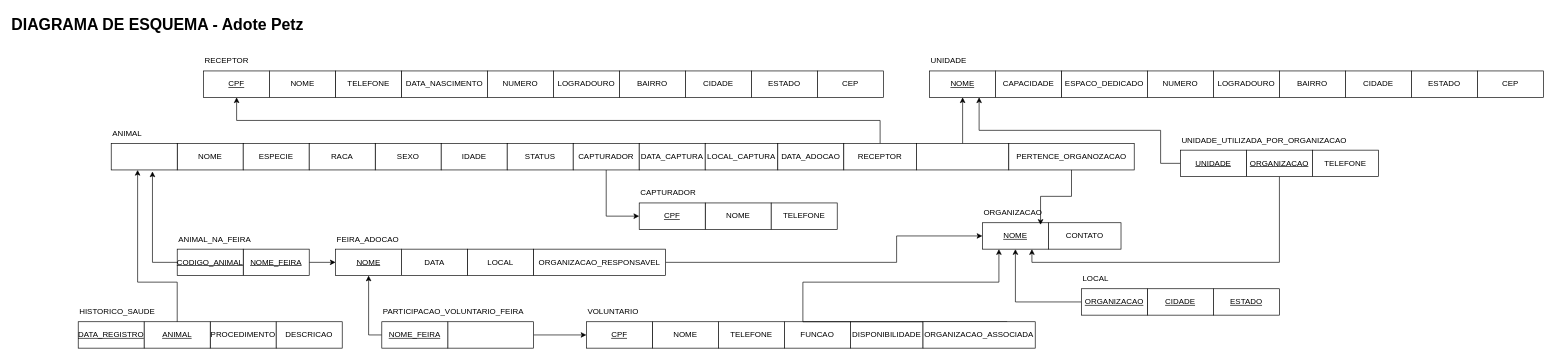
This 1555x360 diagram has some shape labels left out. Each missing label, with the box of its shape:
ALOJADO_UNIDADE: (916, 143, 1009, 170)
CODIGO: (111, 143, 177, 170)
CPF_FUNCIONARIO: (447, 321, 534, 348)
